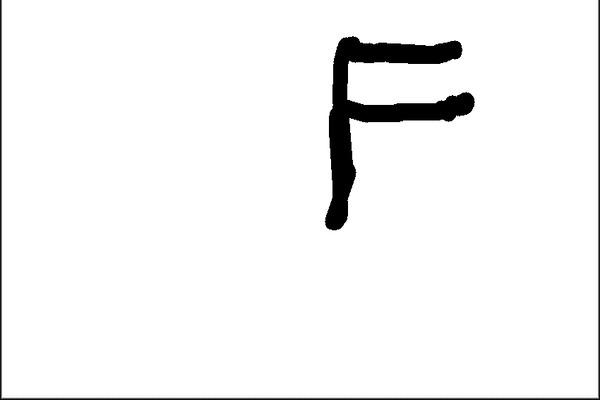F: (320, 27, 476, 236)
